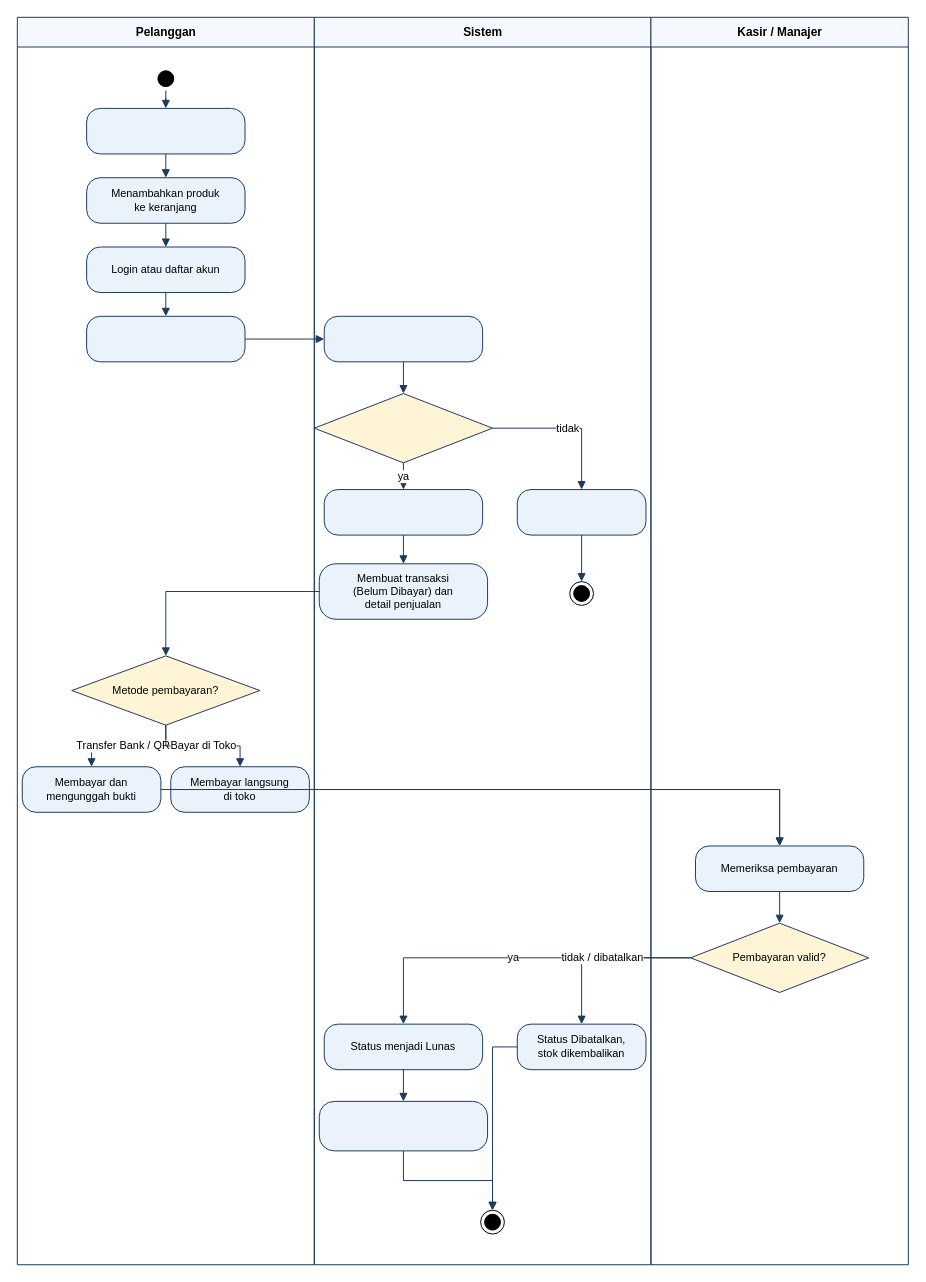
Some shapes in this 926 by 1282 pixel diagram are drawn without their labels. Each missing label, with the centre of its shape:
Checkout dan memilih metode pembayaran: the point at 165,338
Membuka katalog dan memilih produk: the point at 165,130
Menampilkan pesan stok tidak cukup: the point at 581,512
Menerbitkan garansi untuk produk bergaransi: the point at 403,1125
Mengunci baris produk: the point at 403,338
Mengurangi stok: the point at 403,512
Stok semua produk cukup?: the point at 403,428
